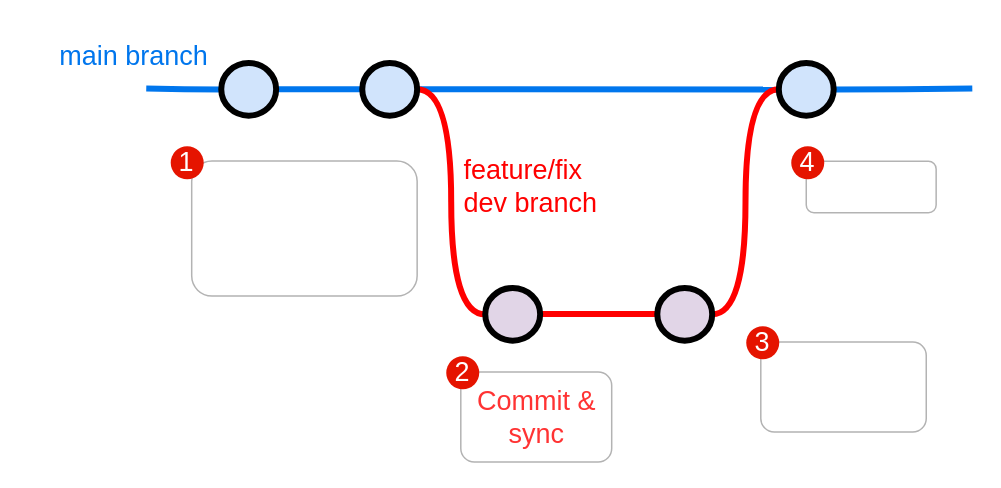
Image size: 1001x488. Some labels were removed from this diagram. Here are the shapes that lost their labels. From the top down, the box of each, then its label:
(805, 160, 936, 213): Merge
(190, 160, 417, 296): Create issue, merge request, & development branch
(759, 340, 926, 432): Review & approve
